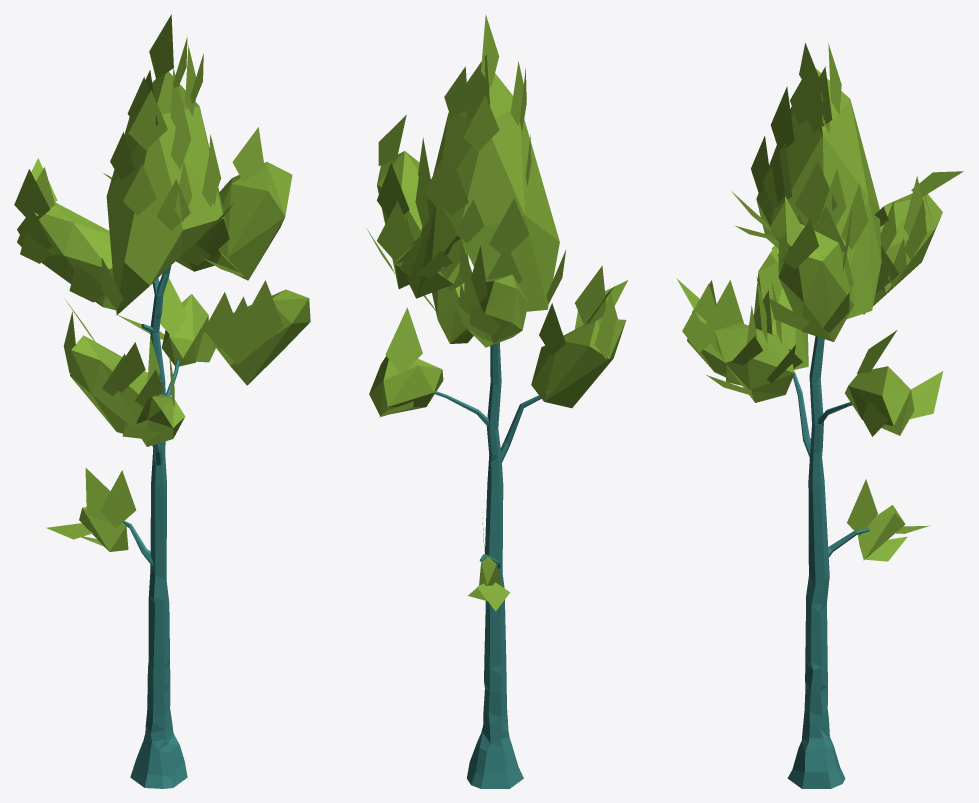
Rendered from tree-birch-young-a.gltf.
The picture shows the model from 3 angles, left to right: view 1: azimuth 30°, elevation 25°; view 2: azimuth 150°, elevation 25°; view 3: azimuth 270°, elevation 25°; orthographic projection.
Visible parts, largest first — view 1: tree-birch-young-a; view 2: tree-birch-young-a; view 3: tree-birch-young-a.
Boxes of the visible parts, x1,y1,x2,y2 form: tree-birch-young-a: (14,14,310,788); tree-birch-young-a: (366,14,627,788); tree-birch-young-a: (676,43,963,788).
Size of the model in its own units: 0.0189 by 0.0539 by 0.0183.
